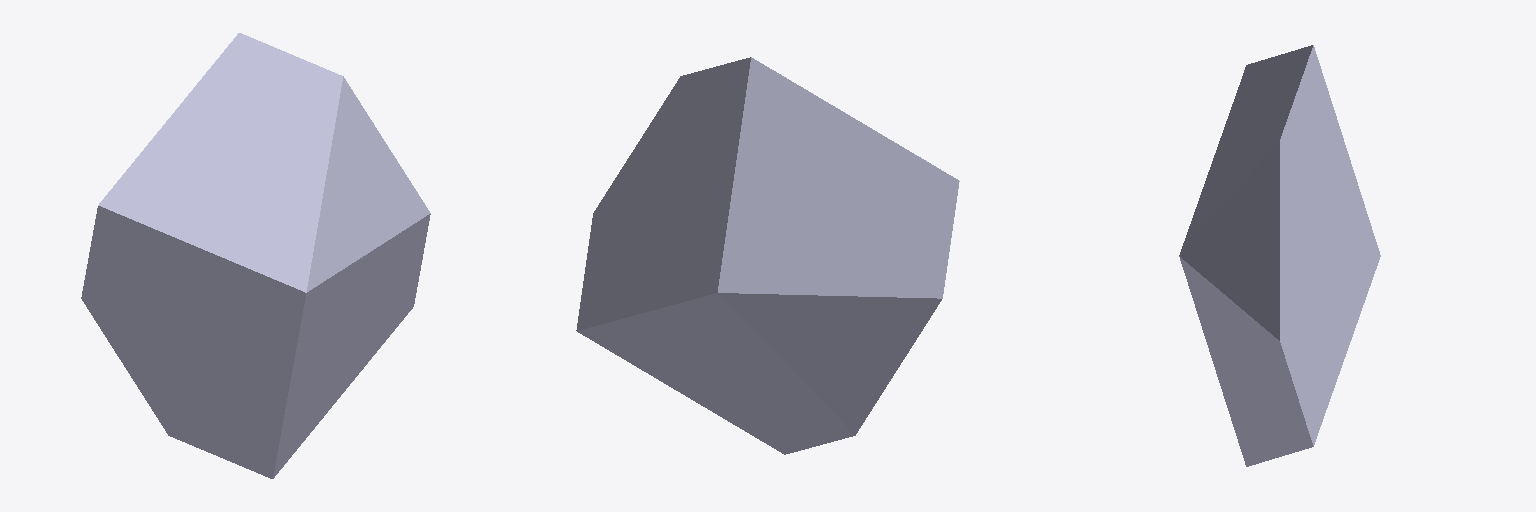
Rendered from rhodochrosite.obj.
The picture shows the model from 3 angles: view 1: azimuth 30°, elevation 25°; view 2: azimuth 150°, elevation 25°; view 3: azimuth 270°, elevation 25°; orthographic projection.
Bounding box in the file's own units: 1.39 × 1.6 × 0.6928.